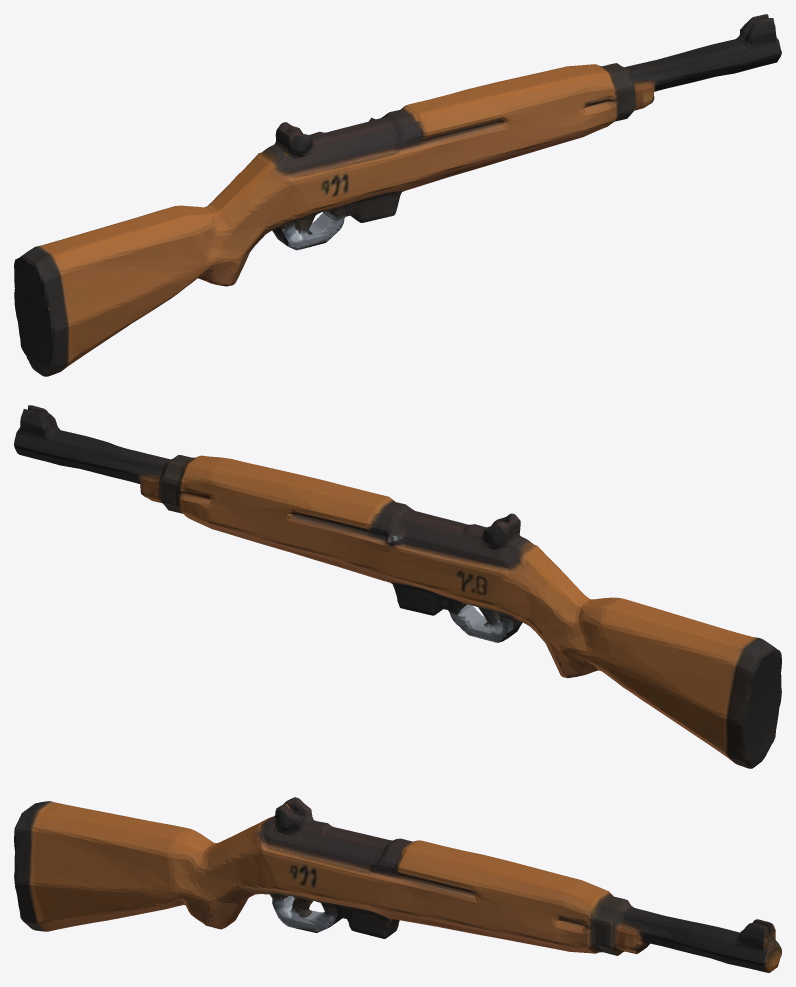
The picture shows the model from 3 angles, top to bottom: view 1: azimuth 30°, elevation 25°; view 2: azimuth 150°, elevation 25°; view 3: azimuth 330°, elevation 25°; orthographic projection.
Parts seen in each view (by area): view 1: tmp7qf1kfmo.ply; view 2: tmp7qf1kfmo.ply; view 3: tmp7qf1kfmo.ply.
Boxes of the visible parts, box(x1,y1,x2,y2) form: tmp7qf1kfmo.ply: box(14, 14, 781, 376); tmp7qf1kfmo.ply: box(14, 405, 781, 768); tmp7qf1kfmo.ply: box(14, 797, 781, 972).
Size of the model in its own units: 1.99 by 0.4744 by 0.1813.
1 material, 1 textured.
